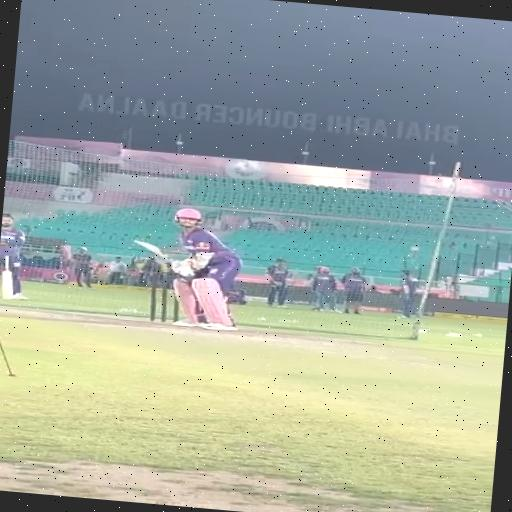Cricket bat: (136, 241, 171, 262)
